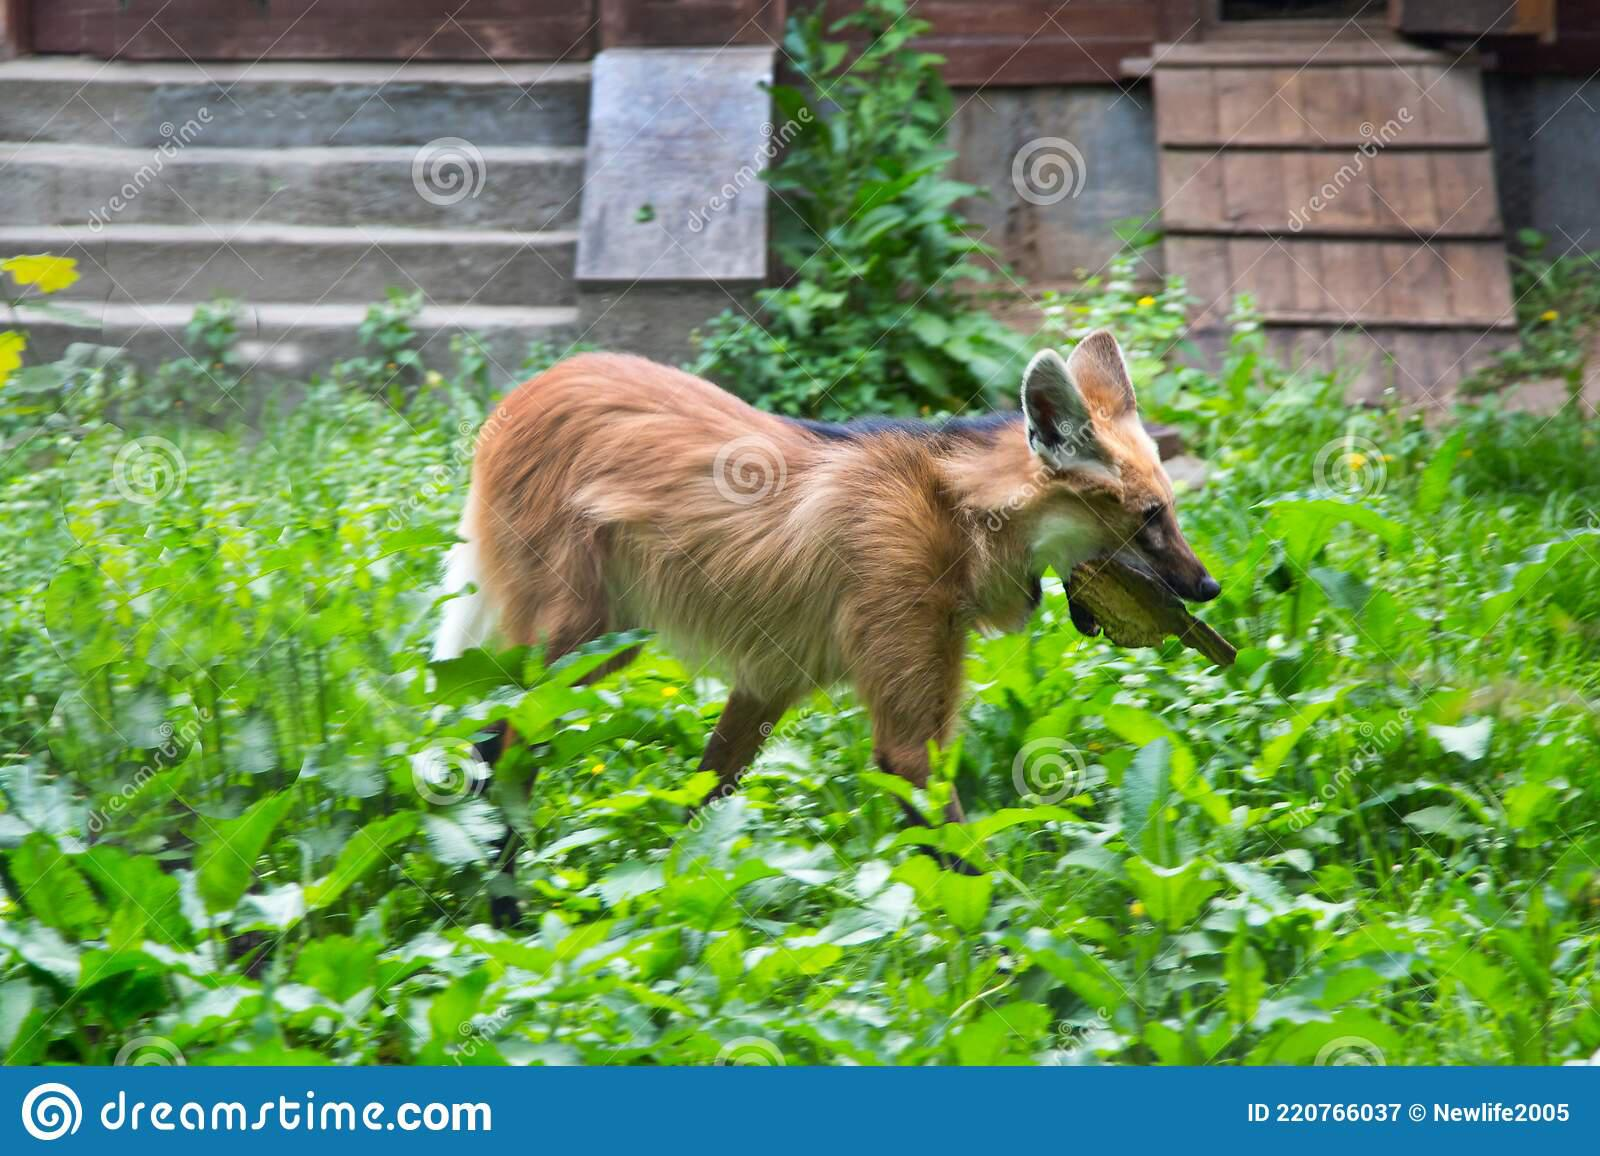LoboGuara: (402, 319, 1229, 810)
